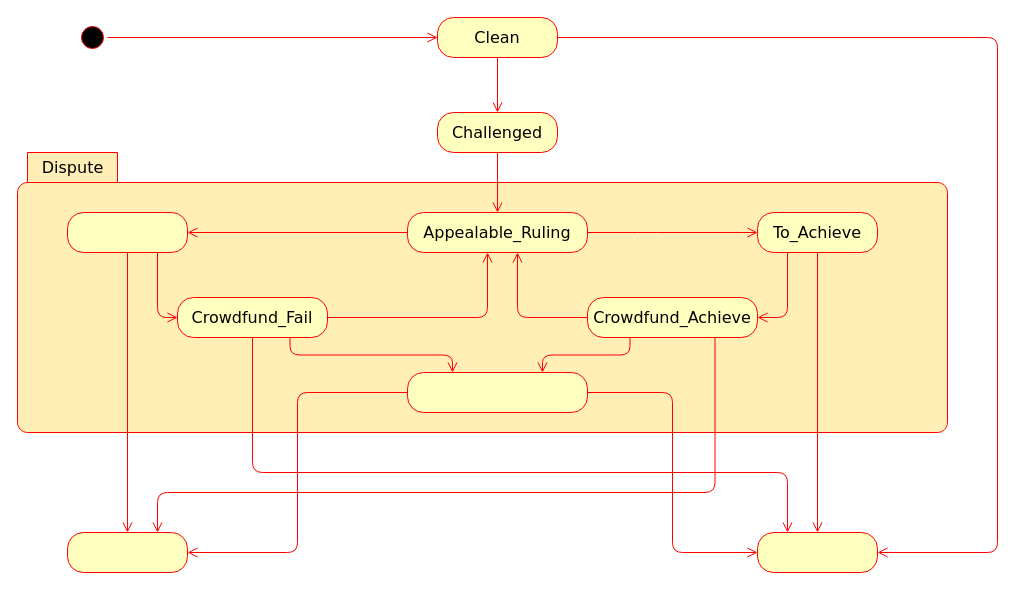
Some shapes in this 1025 by 590 pixel diagram are drawn without their labels. Each missing label, with the box of its shape:
Achieved: (756, 532, 878, 572)
Failed: (66, 532, 188, 572)
Final_Ruling: (406, 372, 588, 412)
To_Fail: (66, 212, 188, 252)
